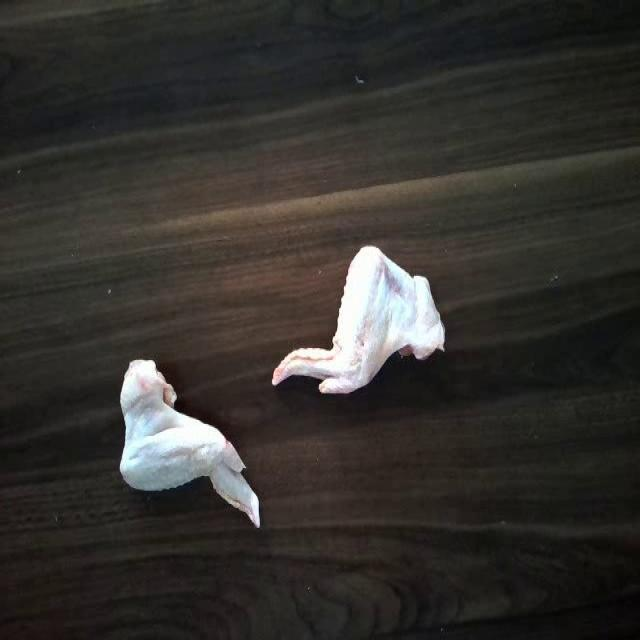wing: (107, 353, 270, 543), (272, 239, 448, 411)
